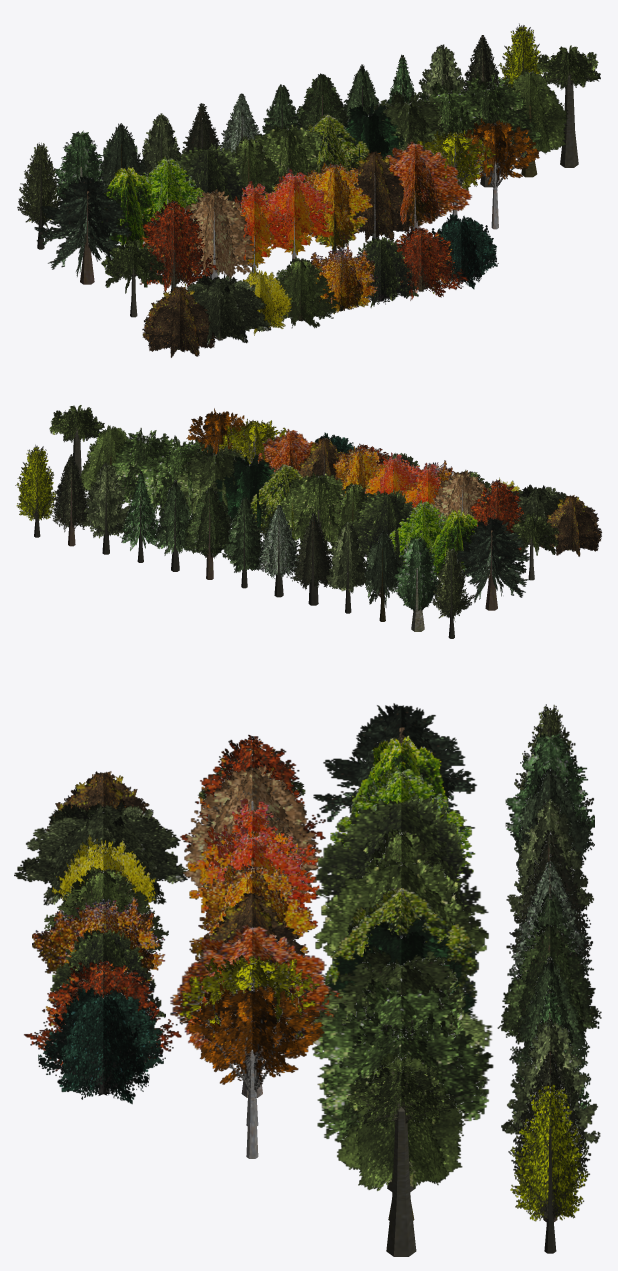
The model's file is tree_pack.glb.
3 renders of one model, top to bottom at view 1: azimuth 30°, elevation 25°; view 2: azimuth 150°, elevation 25°; view 3: azimuth 270°, elevation 25°, orthographic. The views are drawn at different scales.
Parts seen in each view (by area): view 1: tree14, tree34, tree28, tree29, bush02, tree32, bush01, tree31, tree36, tree33, bush07, tree25 (+32 smaller); view 2: tree14, tree19, tree02, tree11, tree17, tree08, tree23, tree22, bush01, tree13, tree24, tree07 (+28 smaller); view 3: bush08, tree36, bush02, tree24, tree17, tree13, tree26, tree25, tree23, tree19, tree29, tree22 (+31 smaller).
Boxes of the visible parts, box(x1,y1,x2,y2) form: tree14: box(34, 176, 132, 284); tree34: box(366, 141, 471, 233); tree28: box(139, 200, 217, 292); tree29: box(184, 189, 256, 279); bush02: box(186, 274, 270, 345); tree32: box(304, 162, 372, 253); bush01: box(142, 286, 215, 357); tree31: box(264, 169, 334, 260); tree36: box(458, 118, 539, 229); tree33: box(350, 151, 411, 242); bush07: box(394, 226, 468, 300); tree25: box(512, 69, 568, 177); tree14: box(456, 517, 530, 610); tree19: box(277, 472, 345, 548); tree02: box(394, 537, 438, 631); tree11: box(81, 462, 130, 554); tree17: box(349, 489, 415, 568); tree08: box(182, 487, 233, 579); tree23: box(135, 435, 208, 516); tree22: box(169, 443, 243, 519); bush01: box(539, 495, 602, 556); tree13: box(15, 444, 56, 537); tree24: box(111, 428, 175, 513); tree07: box(222, 497, 264, 588); bush08: box(38, 987, 165, 1104); tree36: box(186, 983, 324, 1158); bush02: box(14, 801, 187, 905); tree24: box(317, 1012, 488, 1191); tree17: box(315, 793, 488, 914); tree13: box(508, 1080, 589, 1253); tree26: box(346, 1060, 454, 1256); tree25: box(337, 1052, 465, 1220); tree23: box(313, 979, 493, 1097); tree19: box(313, 859, 488, 976); tree29: box(182, 765, 322, 893); tree22: box(312, 946, 491, 1102).
Size of the model in its own units: 69.85 by 13.9 by 39.6.
44 materials, 44 textured.
